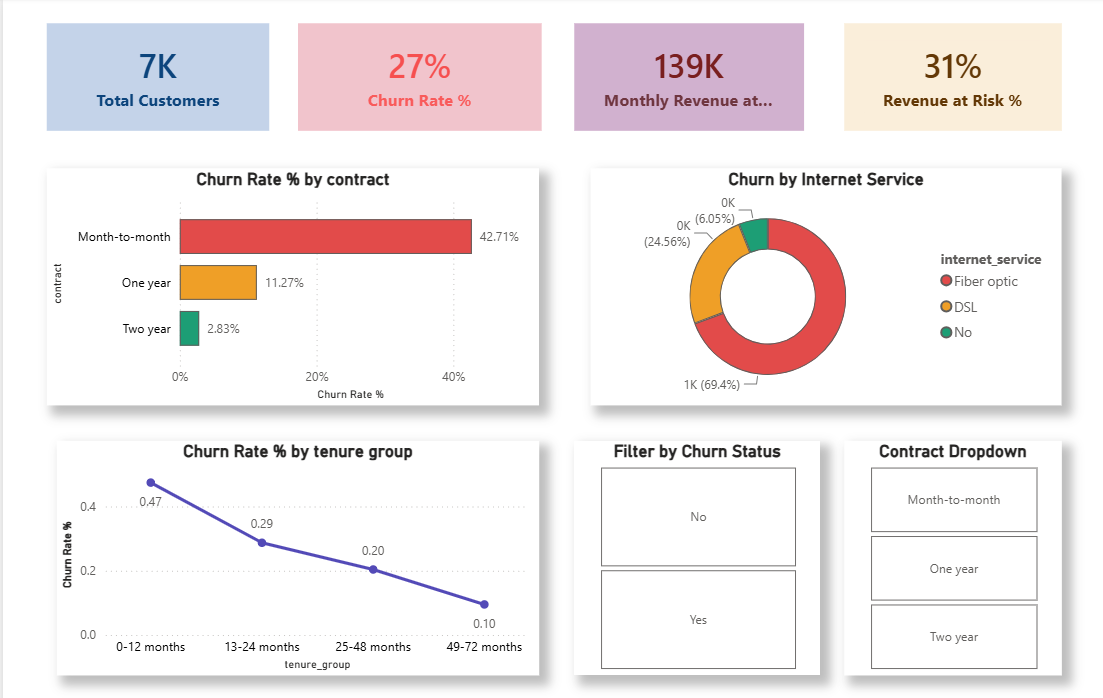

What the dashboard file says about the page in this screenshot:
{"tool":"powerbi","page":{"name":"Churn Overview (executive summary)","canvas":[1280,720],"ordinal":0},"visuals":[{"type":"cardVisual","fields":{"Data":["Telco_Churn_Predictions.Total Customers"]},"box":[42.9,25.8,218.4,105.5],"z":1500},{"type":"cardVisual","fields":{"Data":["Telco_Churn_Predictions.Monthly Revenue at Risk"]},"box":[560.7,25.8,225.8,105.5],"z":3250},{"type":"cardVisual","fields":{"Data":["Telco_Churn_Predictions.Revenue at Risk %"]},"box":[825.8,25.8,213.5,105.5],"z":3375},{"type":"cardVisual","fields":{"Data":["Telco_Churn_Predictions.Churn Rate %"]},"box":[289.6,25.8,239.3,105.5],"z":3500},{"type":"clusteredBarChart","fields":{"Y":["Telco_Churn_Predictions.Churn Rate %"],"Category":["Telco_Churn_Predictions.contract"]},"box":[42.9,168.1,483.4,233.1],"z":4000},{"type":"slicer","title":"Filter by Churn Status","fields":{"Values":["Telco_Churn_Predictions.churn_label"]},"box":[560.7,435.6,241.7,230.7],"z":5000},{"type":"lineChart","title":"Churn Rate % by tenure group","fields":{"Y":["Telco_Churn_Predictions.Churn Rate %"],"Category":["Telco_Churn_Predictions.tenure_group"]},"box":[52.8,435.6,473.6,230.7],"z":6000},{"type":"donutChart","title":"Churn by Internet Service","fields":{"Category":["Telco_Churn_Predictions.internet_service"],"Y":["Telco_Churn_Predictions.Churned Customers"]},"box":[576.7,168.1,462.6,233.1],"z":8000},{"type":"slicer","title":"Contract Dropdown","fields":{"Values":["Telco_Churn_Predictions.contract"]},"box":[825.8,435.6,213.5,230.7],"z":9001}]}

Visuals, with their boxes on the page's 1280x720 design canvas (x1, y1, x2, y2). These are canvas units, not pixel positions in the 1103x698 screenshot, which may show the page scaled, cropped or inside an application window:
cardVisual - Telco_Churn_Predictions.Total Customers: region(43, 26, 261, 131)
cardVisual - Telco_Churn_Predictions.Monthly Revenue at Risk: region(561, 26, 786, 131)
cardVisual - Telco_Churn_Predictions.Revenue at Risk %: region(826, 26, 1039, 131)
cardVisual - Telco_Churn_Predictions.Churn Rate %: region(290, 26, 529, 131)
clusteredBarChart - Telco_Churn_Predictions.Churn Rate % x Telco_Churn_Predictions.contract: region(43, 168, 526, 401)
"Filter by Churn Status" slicer: region(561, 436, 802, 666)
"Churn Rate % by tenure group" lineChart: region(53, 436, 526, 666)
"Churn by Internet Service" donutChart: region(577, 168, 1039, 401)
"Contract Dropdown" slicer: region(826, 436, 1039, 666)
